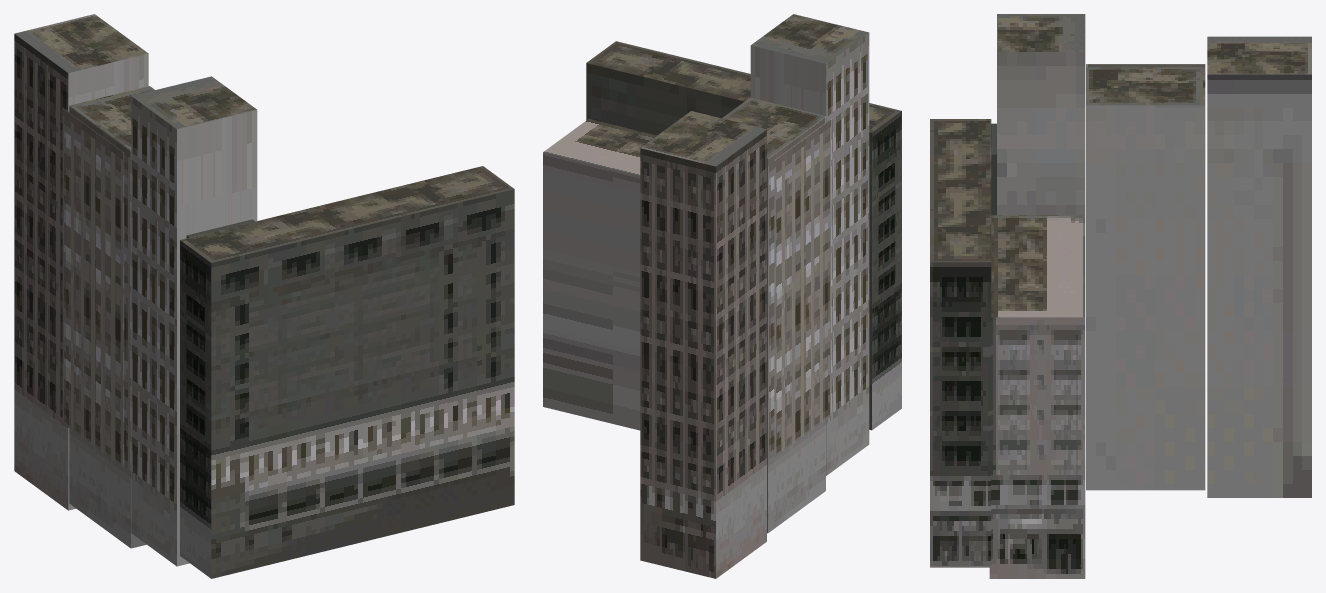
File: loda27.obj
3 views of the same model, side by side, from view 1: azimuth 30°, elevation 25°; view 2: azimuth 150°, elevation 25°; view 3: azimuth 270°, elevation 25° (orthographic). The views are drawn at different scales.
Visible parts, largest first — view 1: LODA27; view 2: LODA27; view 3: LODA27.
Boxes of the visible parts, <box> form: LODA27: <box>14,14,514,578</box>; LODA27: <box>543,14,901,578</box>; LODA27: <box>930,14,1311,578</box>.
Bounding box in the file's own units: 75.78 × 108 × 83.5.
Materials: 9 (7 with a texture image).
